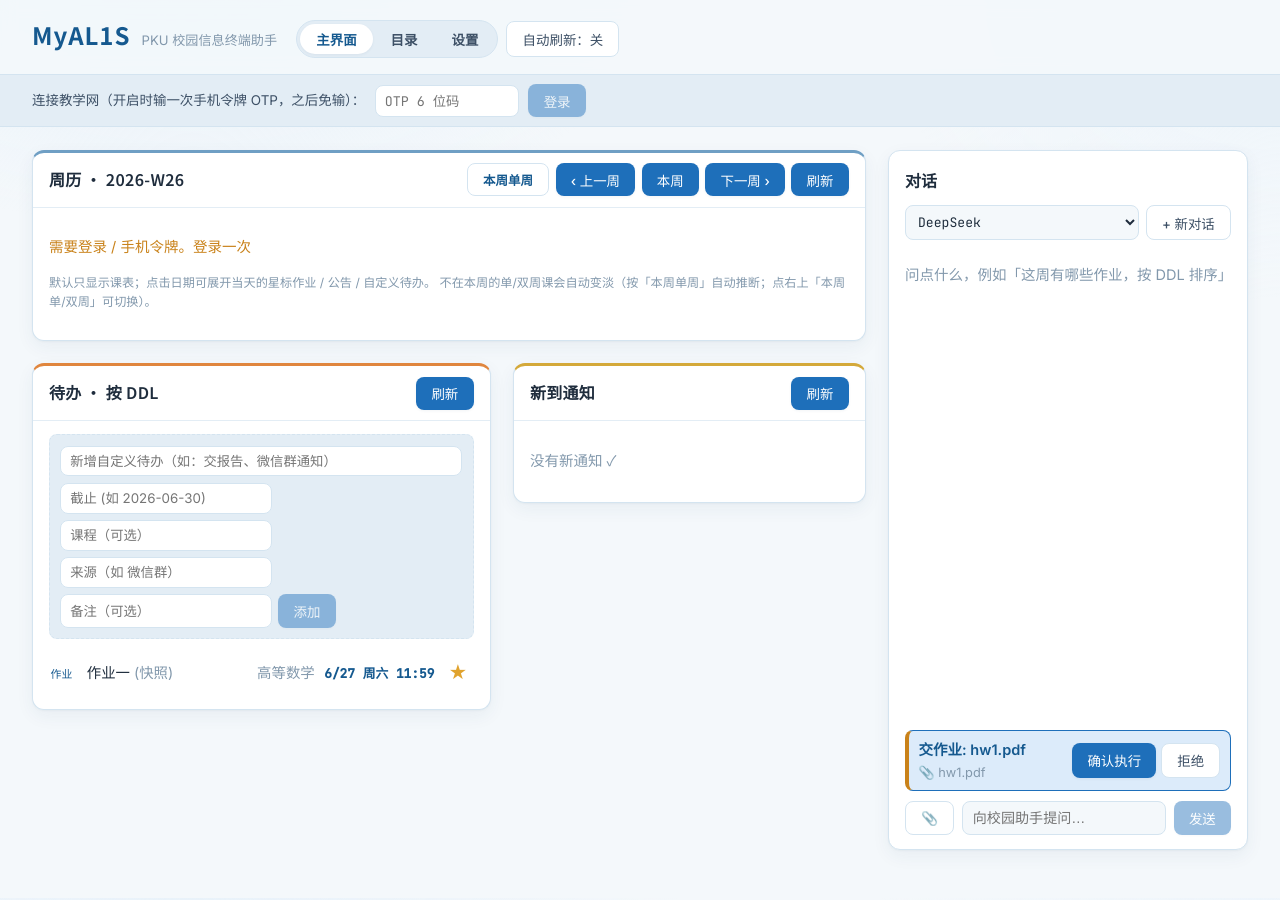
P2 write-ops UI › a confirm whose execution hits needs_otp shows 需先登录 on the banner
The width and height of the screenshot is (1280, 900).
Click the button "确认执行". click: (1114, 760)
box: [1072, 743, 1156, 778]
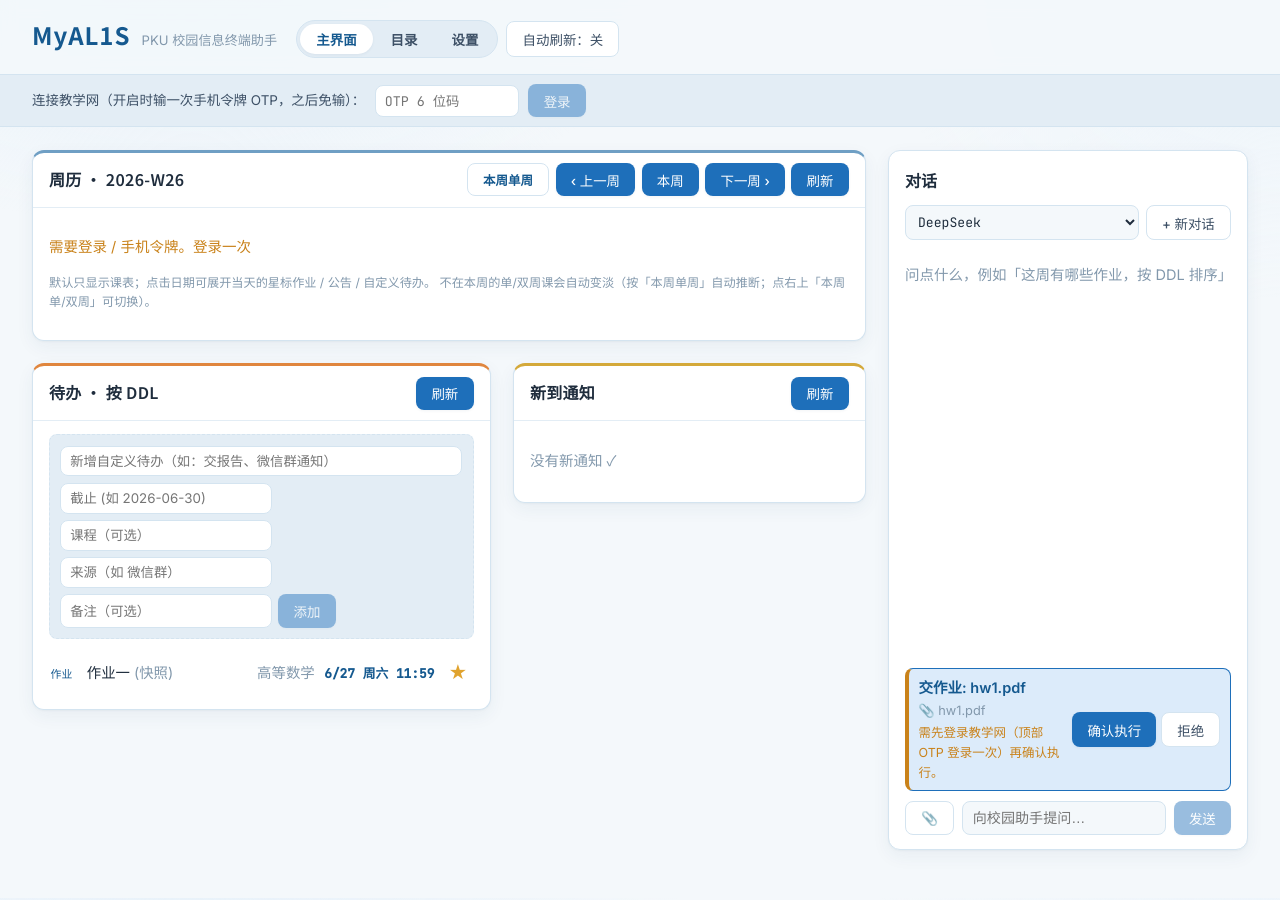
Check: the text "需先登录教学网（顶部 OTP 登录一次）再确认执行。" is shown, box [919, 723, 1063, 783]
